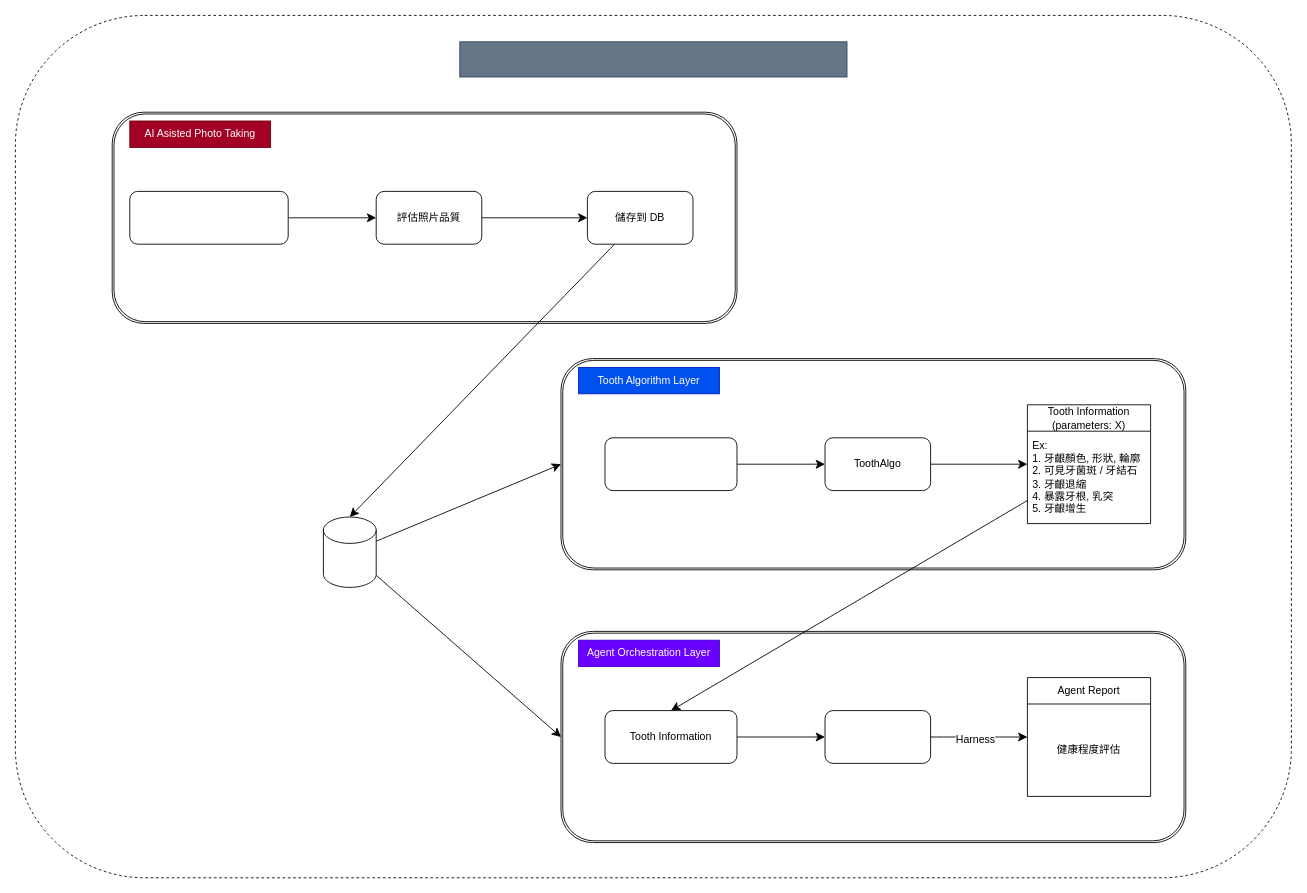
Image size: 1307x893. Some labels were removed from this diagram. The centre of each missing label's shape, as x and y in pixels:
"Backend" goes at (653,59).
"DB" goes at (349,551).
"Images (正面照片: L, M, R)" goes at (670,464).
"LLM API (Local LLM)" goes at (877,736).
"引導使用者拍攝固定角度的照片" goes at (208,217).
